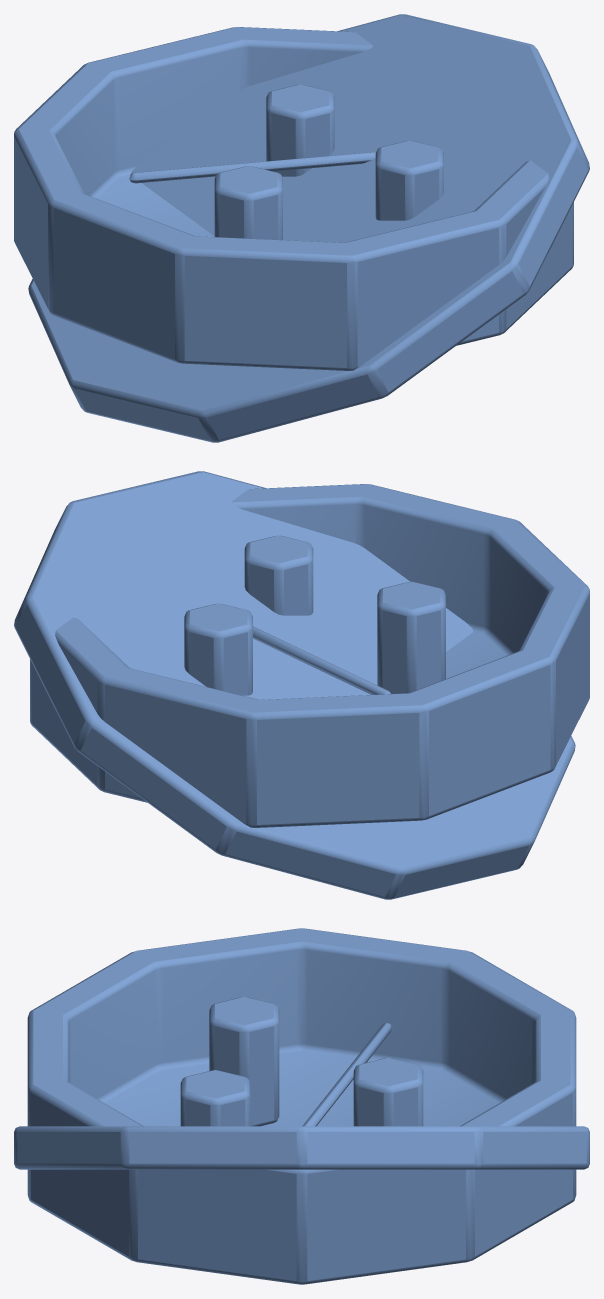
Rendered from HopKimChi_Me.glb.
3 views of the same model, one above another, from view 1: azimuth 30°, elevation 25°; view 2: azimuth 150°, elevation 25°; view 3: azimuth 270°, elevation 25° (orthographic). The views are drawn at different scales.
Parts seen in each view (by area): view 1: HopKimChi_Me; view 2: HopKimChi_Me; view 3: HopKimChi_Me.
Boxes of the visible parts, x1,y1,x2,y2 form: HopKimChi_Me: (14,14,589,442); HopKimChi_Me: (14,471,589,899); HopKimChi_Me: (14,928,589,1284).
Bounding box in the file's own units: 0.2032 × 0.1006 × 0.1997.
